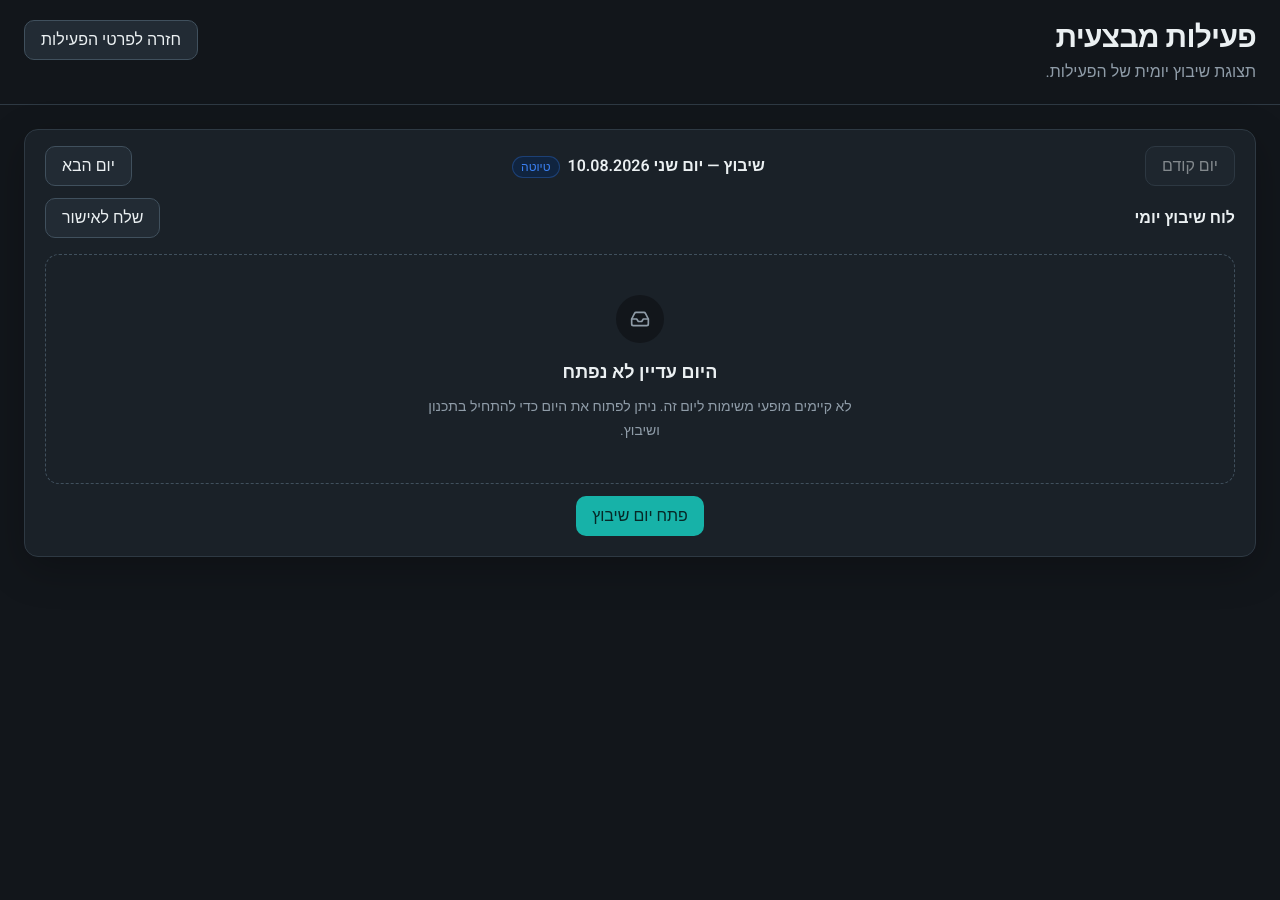
Test: ActivityPlanningPage › renders a fixed operational timeline window from 06:00 to 06:00 next day
Click the button "יום הבא": x=88, y=166 left=45, top=146, right=132, bottom=186
(page scrolled)
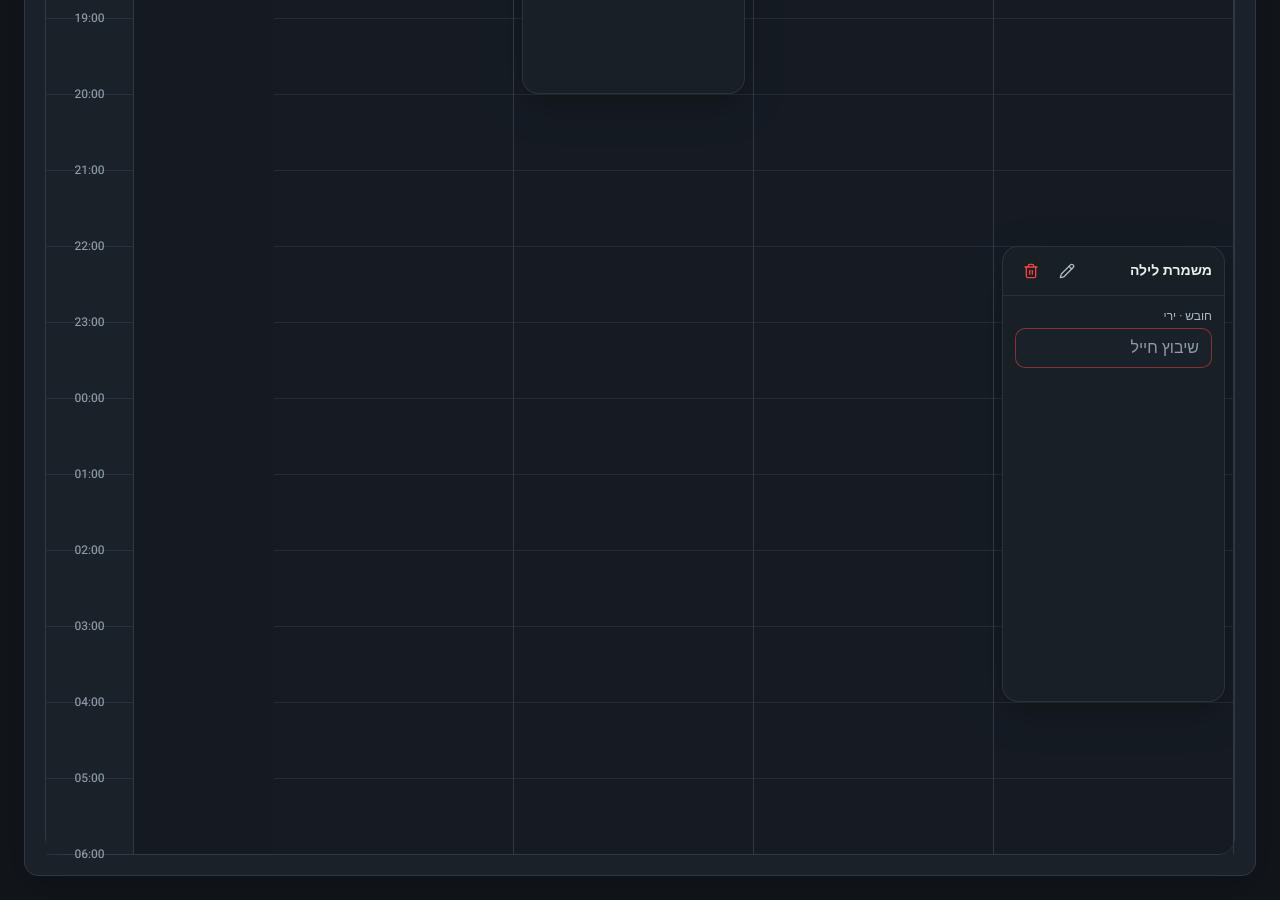
Check: the text with test id "planning-time-axis-label-17" reads "23:00", box left=74, top=312, right=105, bottom=330
Check: the text with test id "planning-time-axis-label-18" reads "00:00", box left=74, top=388, right=105, bottom=406
Check: the text with test id "planning-time-axis-label-24" reads "06:00", box left=74, top=844, right=105, bottom=862
